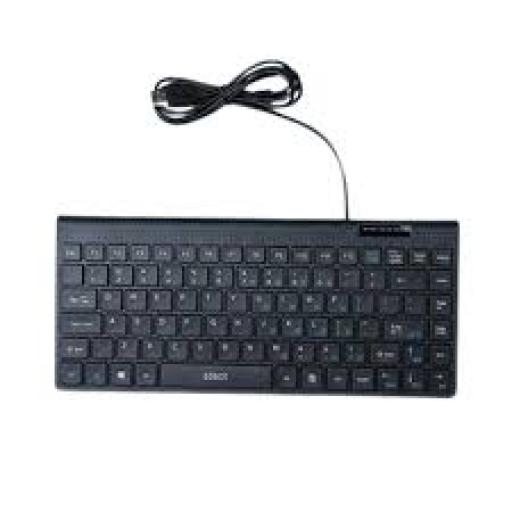keyboard: (57, 221, 453, 394)
